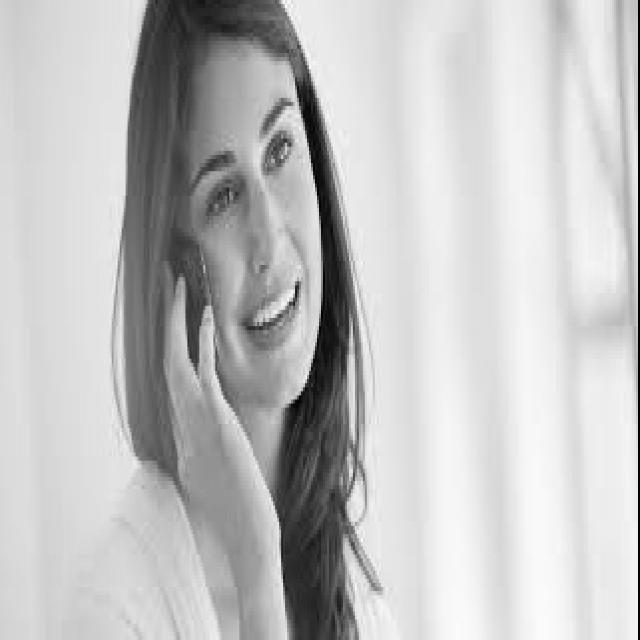phone: (158, 135, 293, 534)
